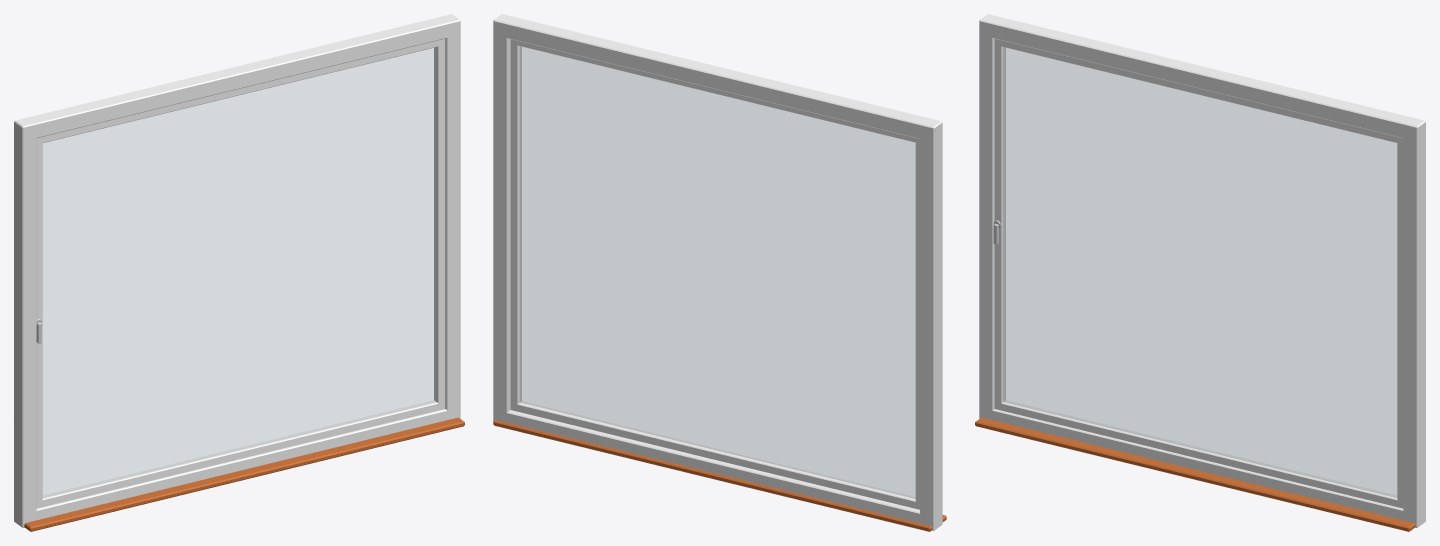
The model's file is window-patio-2400.glb.
3 views of the same model, side by side, from view 1: azimuth 30°, elevation 25°; view 2: azimuth 150°, elevation 25°; view 3: azimuth 330°, elevation 25° (orthographic).
Visible parts, largest first — view 1: window-patio-2400.glass, window-patio-2400.tint, window-patio-2400.accent; view 2: window-patio-2400.glass, window-patio-2400.tint, window-patio-2400.accent; view 3: window-patio-2400.glass, window-patio-2400.tint, window-patio-2400.accent.
Part boxes in pixels (x1=…): window-patio-2400.glass: x1=43, y1=47, x2=436, y2=497; window-patio-2400.tint: x1=14, y1=14, x2=460, y2=527; window-patio-2400.accent: x1=24, y1=417, x2=464, y2=531; window-patio-2400.glass: x1=520, y1=46, x2=915, y2=498; window-patio-2400.tint: x1=493, y1=14, x2=942, y2=530; window-patio-2400.accent: x1=493, y1=420, x2=946, y2=531; window-patio-2400.glass: x1=1003, y1=47, x2=1396, y2=497; window-patio-2400.tint: x1=979, y1=14, x2=1425, y2=527; window-patio-2400.accent: x1=975, y1=417, x2=1415, y2=531.
Size of the model in its own units: 2.4 by 2.1 by 0.16.
